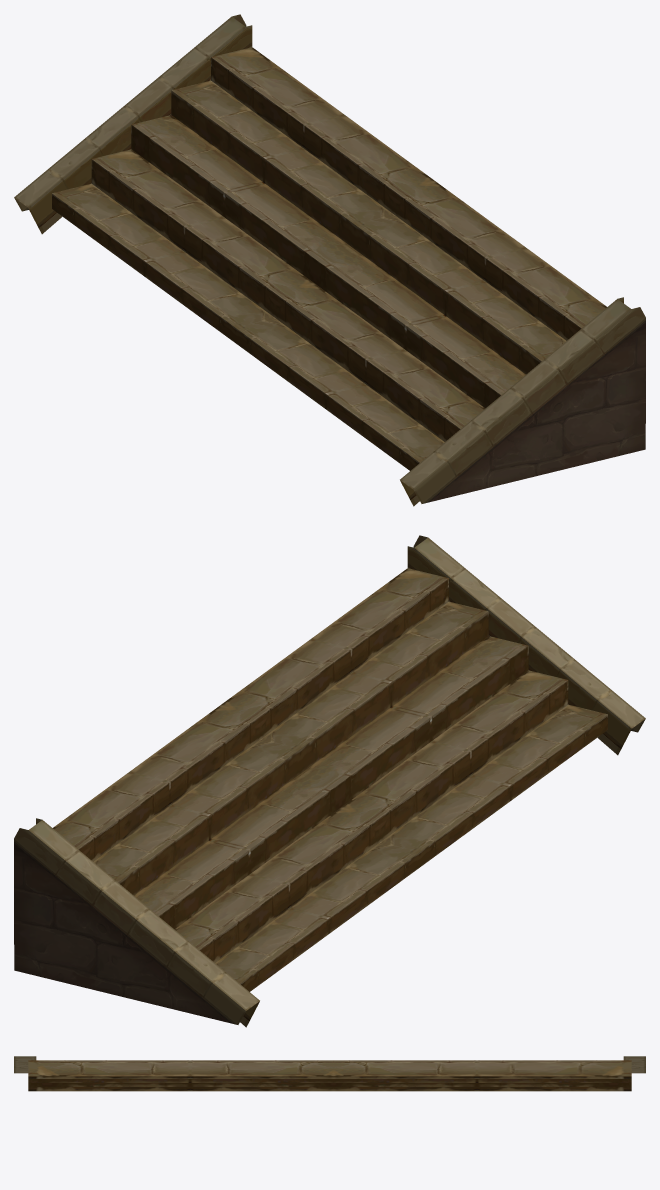
File: stairs_06.FBX
3 views of the same model, one above another, from view 1: azimuth 30°, elevation 25°; view 2: azimuth 150°, elevation 25°; view 3: azimuth 270°, elevation 25° (orthographic). The views are drawn at different scales.
Parts seen in each view (by area): view 1: stairs_06; view 2: stairs_06; view 3: stairs_06.
Part boxes in pixels (x1,y1,x2,y2): stairs_06: [14, 14, 645, 506]; stairs_06: [14, 535, 645, 1027]; stairs_06: [14, 1056, 645, 1091].
Size of the model in its own units: 583 by 380 by 1739.
